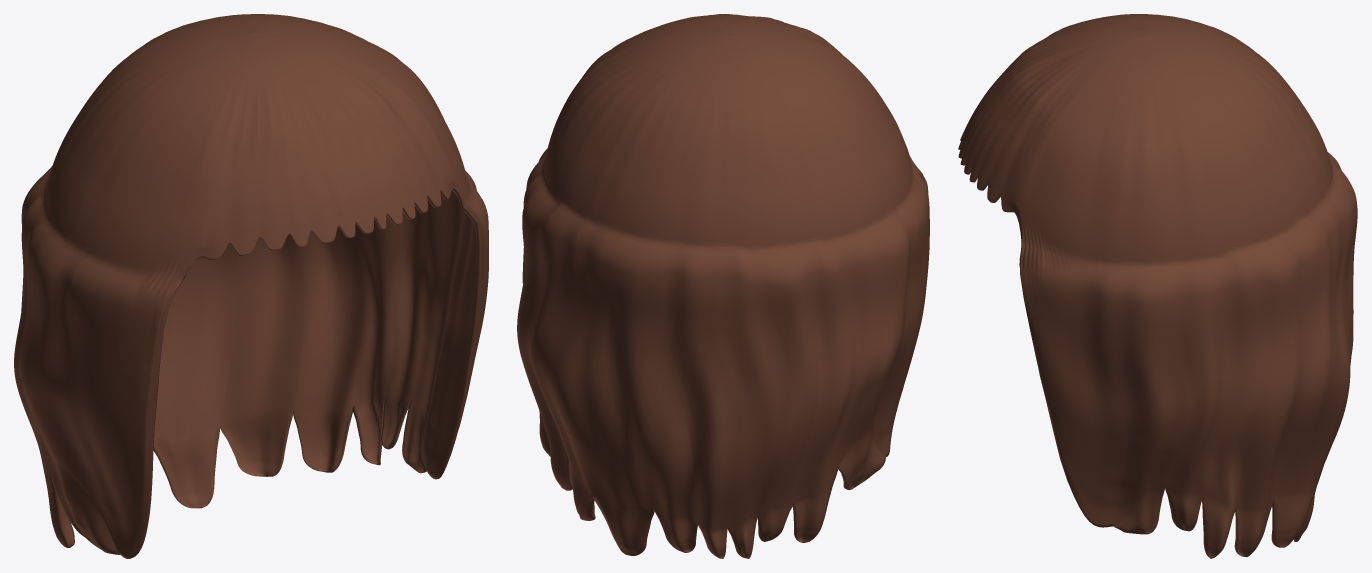
The model's file is long-beanie.glb.
3 renders of one model, left to right at view 1: azimuth 30°, elevation 25°; view 2: azimuth 150°, elevation 25°; view 3: azimuth 270°, elevation 25°, orthographic. The views are drawn at different scales.
Visible parts, largest first — view 1: Hair / rounded long fringe; view 2: Hair / rounded long fringe; view 3: Hair / rounded long fringe.
Boxes of the visible parts, x1,y1,x2,y2 form: Hair / rounded long fringe: (14, 14, 488, 558); Hair / rounded long fringe: (517, 14, 929, 558); Hair / rounded long fringe: (958, 14, 1357, 558).
Size of the model in its own units: 0.8534 by 1.06 by 0.7734.
